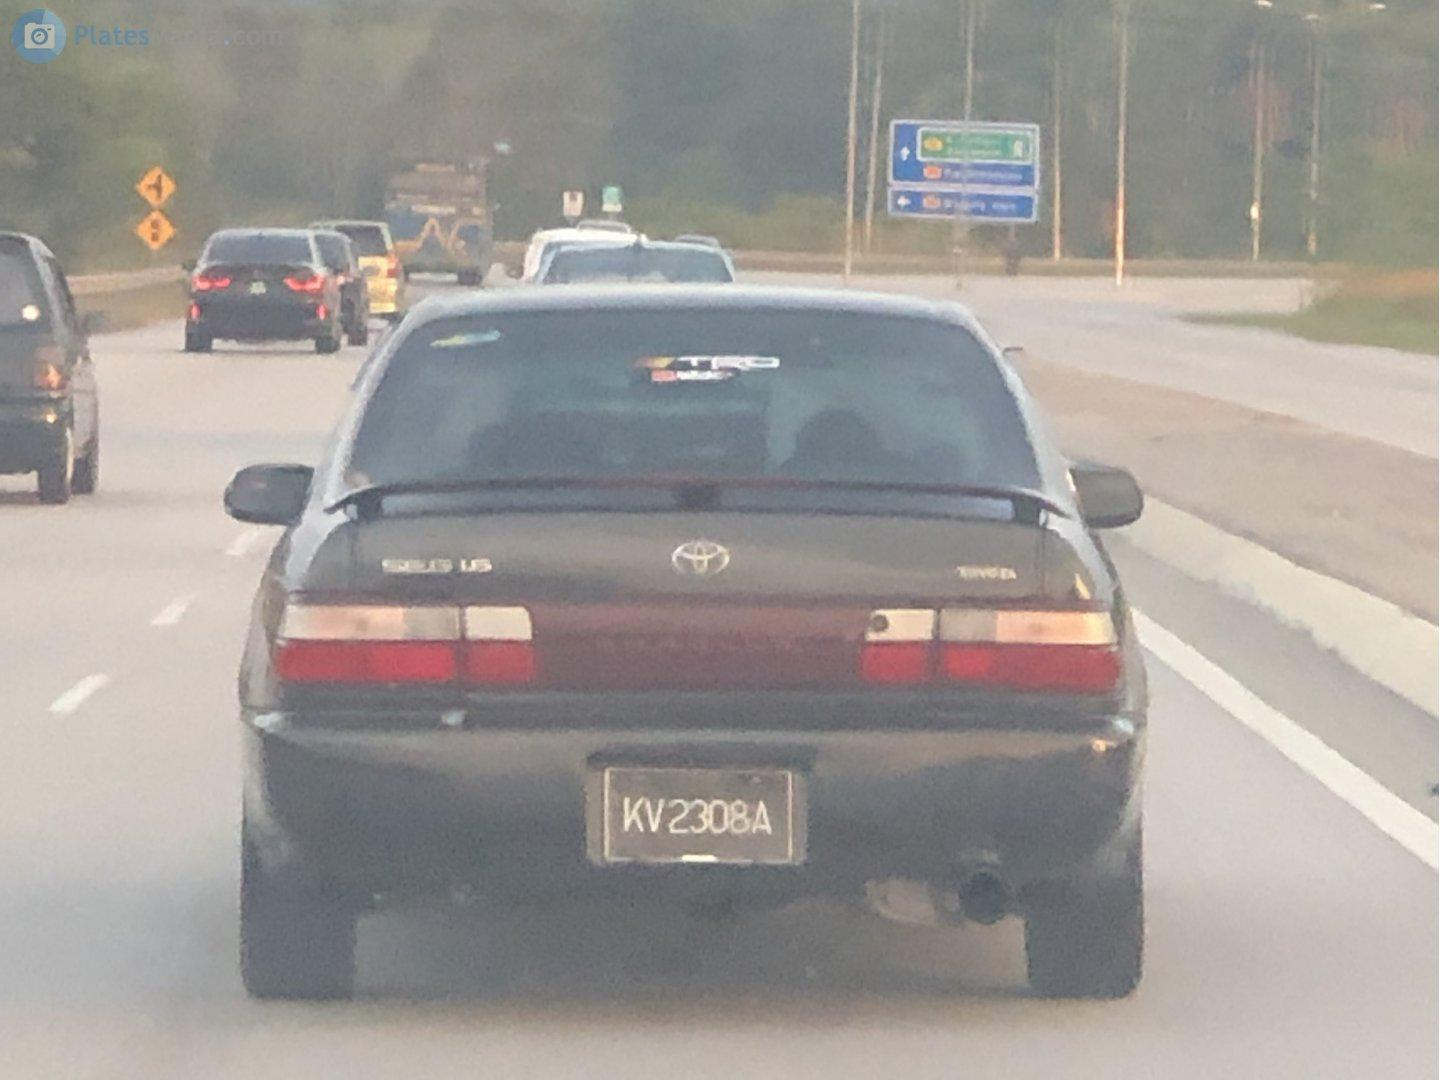License Plate: (606, 769, 792, 864)
